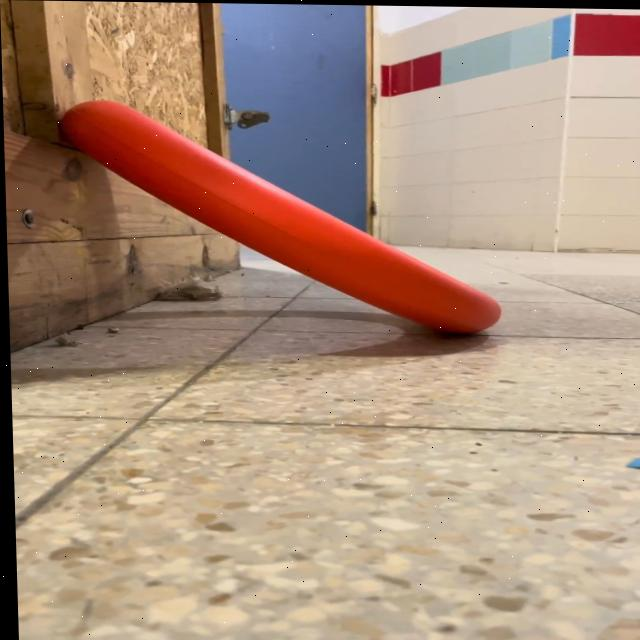note: (54, 97, 504, 337)
